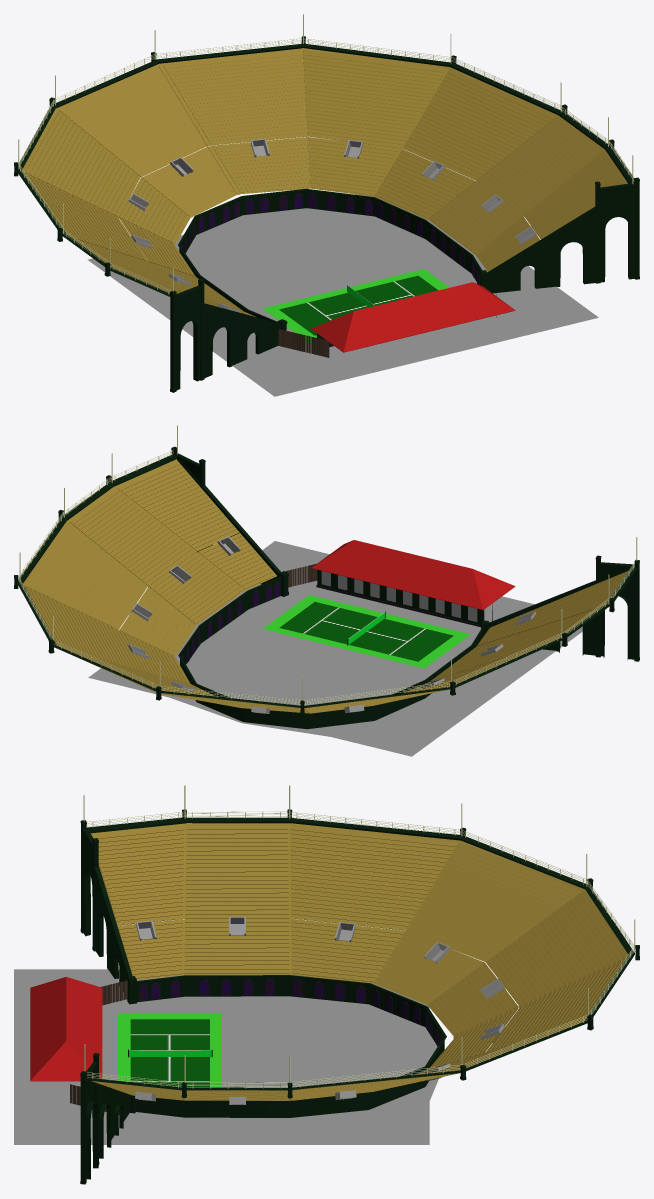
The model's file is Ashe Stadium.FBX.
3 views of the same model, one above another, from view 1: azimuth 30°, elevation 25°; view 2: azimuth 150°, elevation 25°; view 3: azimuth 270°, elevation 25° (orthographic). The views are drawn at different scales.
Parts seen in each view (by area): view 1: Object001, Court Grass, Box001, Box002, Plane002, Object002, Box143, Box141; view 2: Object001, Court Grass, Box001, Box002, Plane002, Object002, Box004, Box143, Box003; view 3: Object001, Court Grass, Box001, Box002, Plane002, Object002, Box142, Box018.
Part boxes in pixels (x1,y1,x2,y2): Object001: (22, 48, 627, 316); Court Grass: (87, 194, 598, 396); Box001: (16, 44, 635, 390); Box002: (311, 282, 515, 352); Plane002: (279, 275, 438, 335); Object002: (262, 269, 449, 342); Box143: (170, 290, 176, 392); Box141: (595, 181, 600, 283); Object001: (23, 459, 627, 713); Court Grass: (88, 541, 582, 756); Box001: (17, 453, 637, 729); Box002: (311, 540, 515, 609); Plane002: (279, 602, 453, 661); Object002: (263, 595, 470, 668); Box004: (317, 570, 484, 624); Box143: (634, 560, 639, 661); Box003: (316, 585, 480, 627); Object001: (90, 823, 628, 1100); Court Grass: (14, 969, 438, 1144); Box001: (81, 817, 634, 1179); Box002: (30, 977, 102, 1081); Plane002: (130, 1019, 209, 1087); Object002: (118, 1013, 221, 1087); Box142: (80, 1071, 86, 1184); Box018: (129, 1050, 211, 1056).
Size of the model in its own units: 3414 by 793 by 3280.
